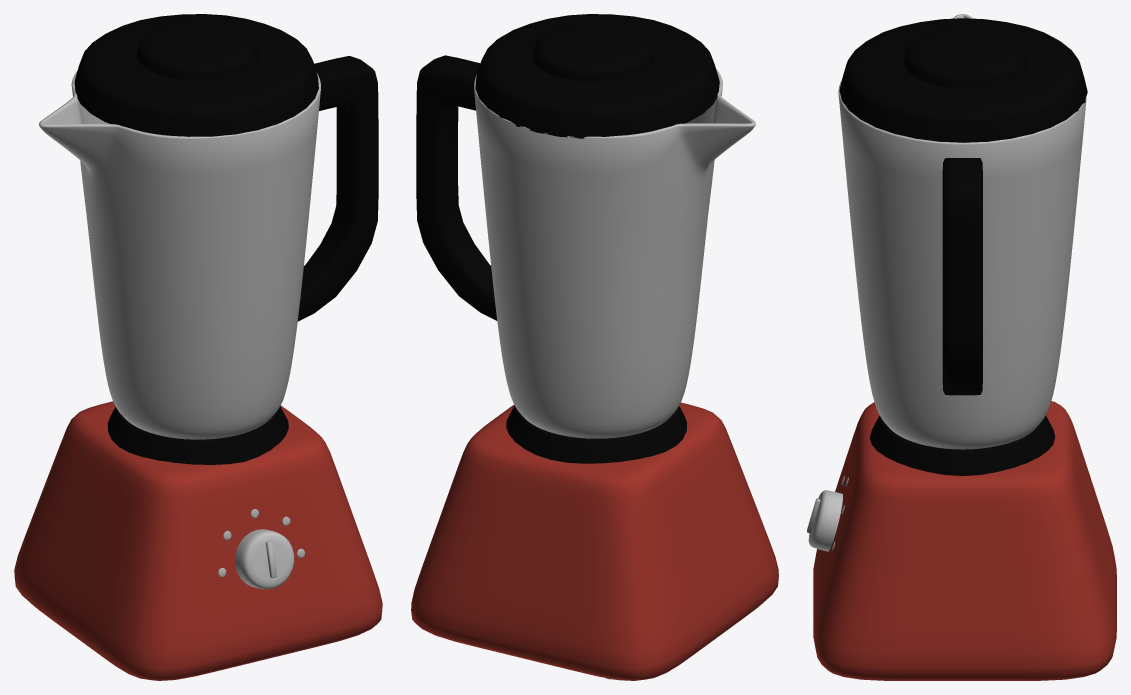
The model's file is Blender.fbx.
3 views of the same model, side by side, from view 1: azimuth 30°, elevation 25°; view 2: azimuth 150°, elevation 25°; view 3: azimuth 270°, elevation 25° (orthographic).
Parts seen in each view (by area): view 1: Cube.001; view 2: Cube.001; view 3: Cube.001.
Part boxes in pixels (box(x1,y1,x2,y2)): Cube.001: box(14, 14, 382, 680); Cube.001: box(411, 14, 778, 680); Cube.001: box(807, 14, 1116, 680).
Size of the model in its own units: 239 by 404 by 192.
